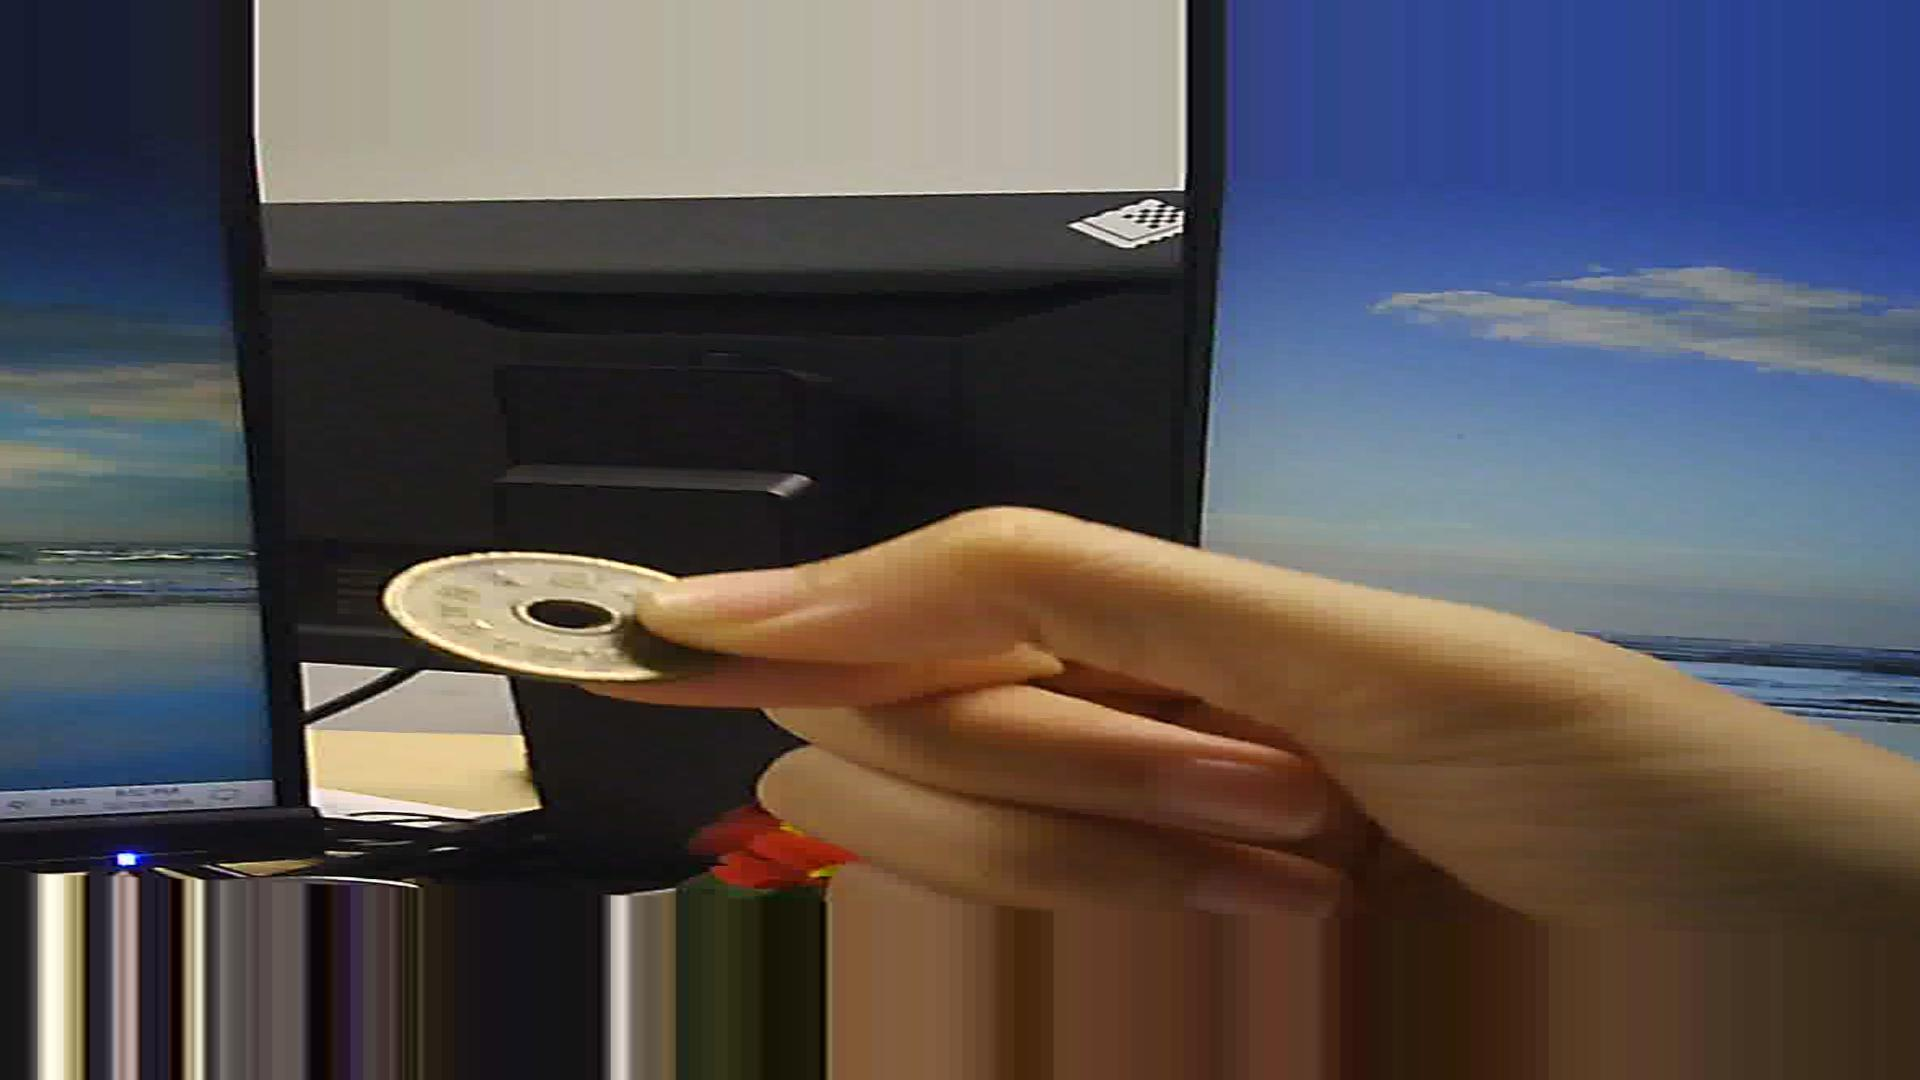5 Yen: (378, 534, 717, 694)
